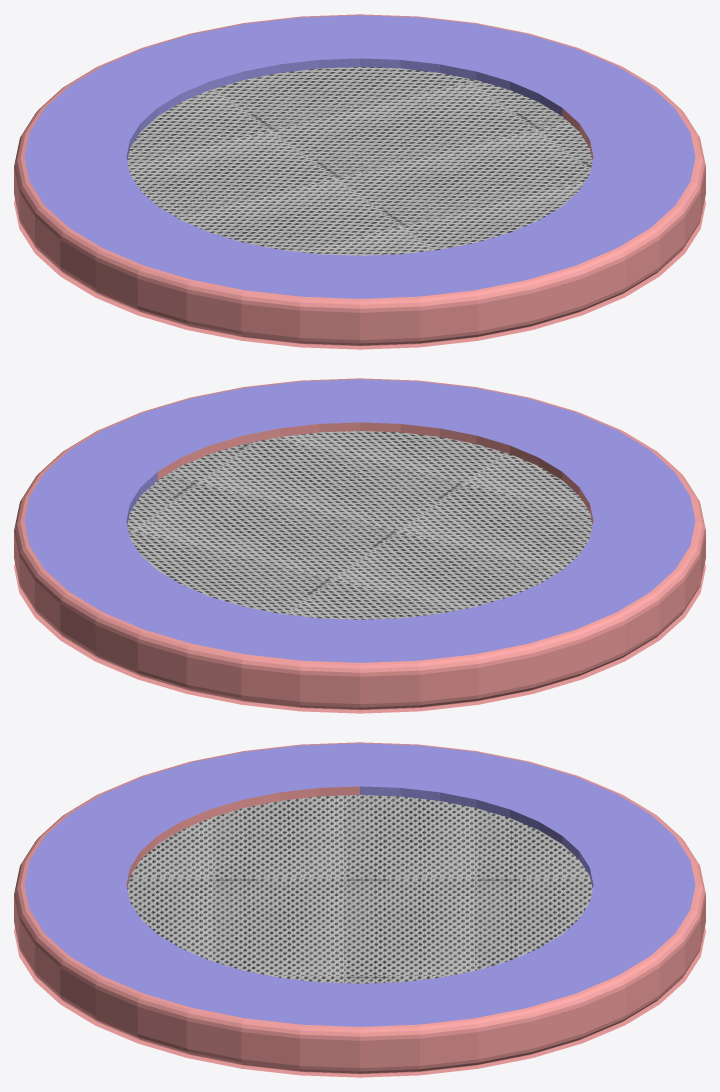
The model's file is Tramplin.glb.
3 renders of one model, top to bottom at view 1: azimuth 30°, elevation 25°; view 2: azimuth 150°, elevation 25°; view 3: azimuth 270°, elevation 25°, orthographic.
Visible parts, largest first — view 1: Material5, Material4, Material2; view 2: Material5, Material4, Material2; view 3: Material5, Material4, Material2.
Part boxes in pixels (box(x1,y1,x2,y2)): Material5: box(24, 15, 695, 298); Material4: box(127, 67, 592, 255); Material2: box(14, 14, 705, 349); Material5: box(24, 379, 695, 662); Material4: box(127, 431, 592, 619); Material2: box(14, 378, 705, 713); Material5: box(24, 743, 695, 1026); Material4: box(127, 795, 592, 983); Material2: box(14, 742, 705, 1077).
Bounding box in the file's own units: 3 × 0.2215 × 3.
Materials: 3 (1 with a texture image).
